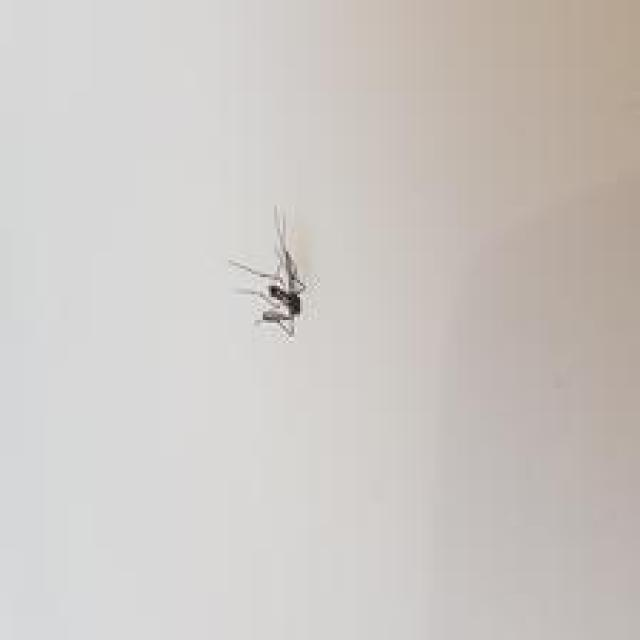Aedes albopictus: (228, 204, 308, 339)
